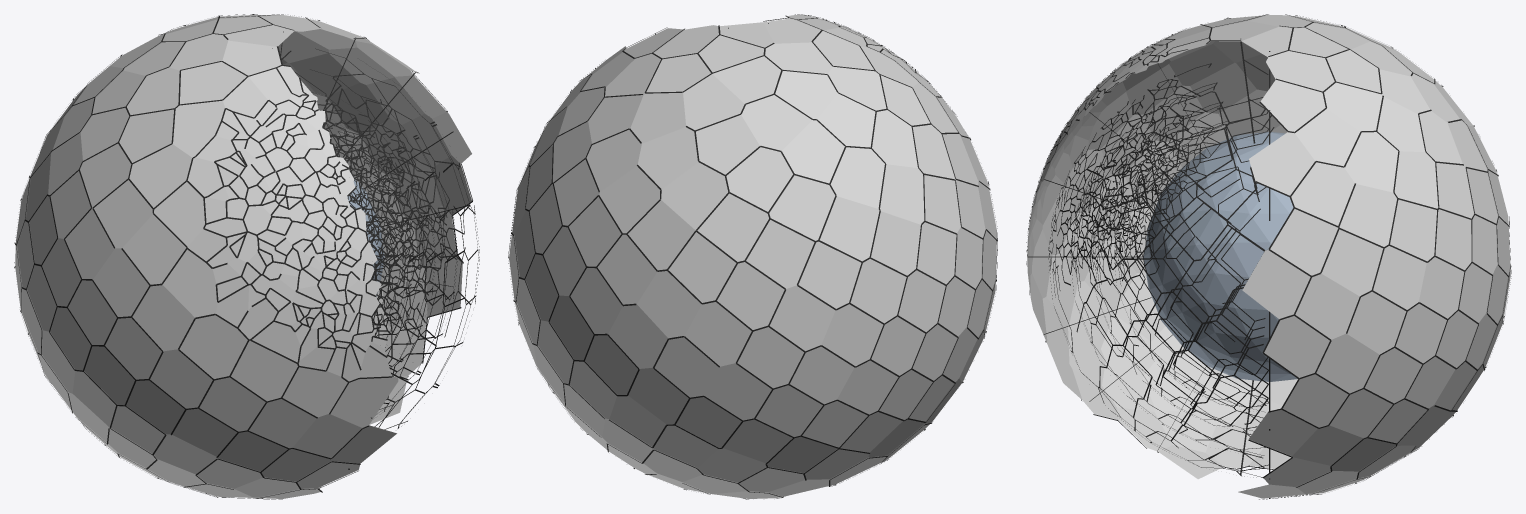
Rendered from AdaptiveVoronoi_grid_3D_cutaway.glb.
3 views of the same model, side by side, from view 1: azimuth 30°, elevation 25°; view 2: azimuth 150°, elevation 25°; view 3: azimuth 270°, elevation 25° (orthographic).
Size of the model in its own units: 1 by 0.9967 by 1.
